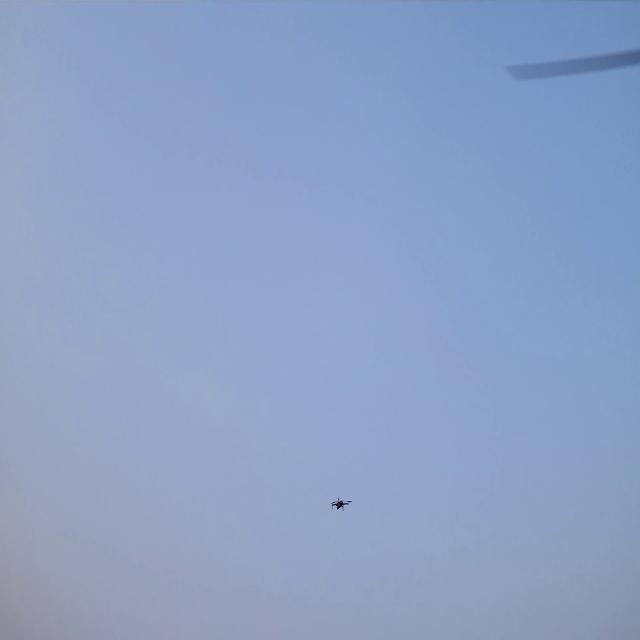UAV: (332, 499, 350, 510)
